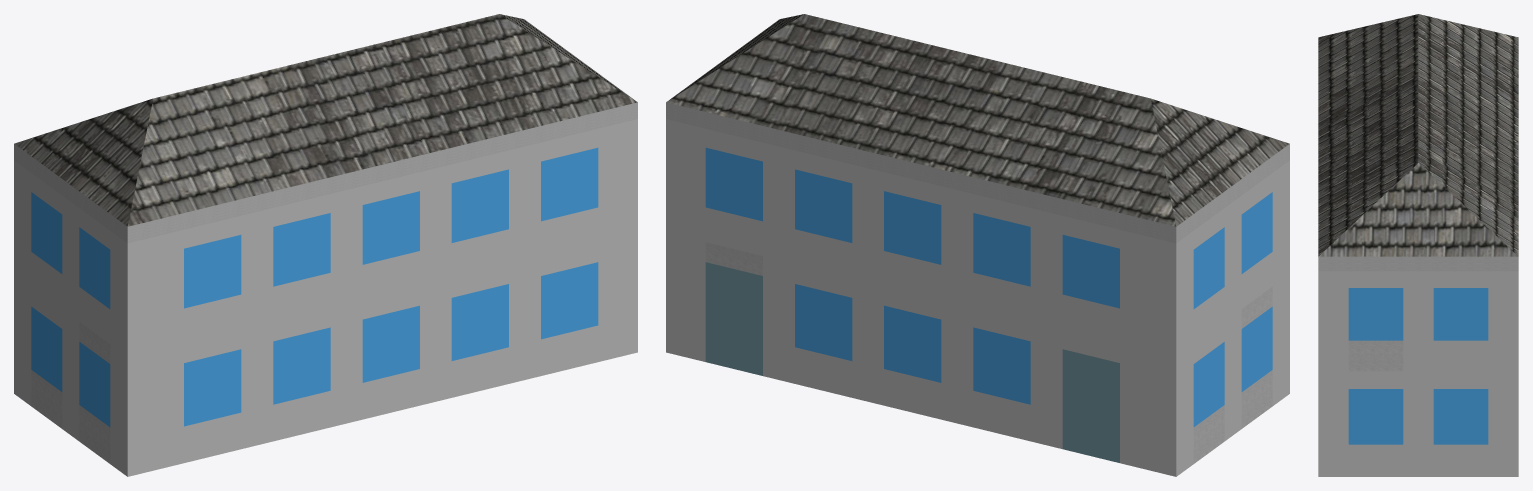
Rendered from Water_Softening_Room.glb.
3 renders of one model, left to right at view 1: azimuth 30°, elevation 25°; view 2: azimuth 150°, elevation 25°; view 3: azimuth 270°, elevation 25°, orthographic. The views are drawn at different scales.
Visible parts, largest first — view 1: Floor1, Roof; view 2: Floor1, Roof; view 3: Roof, Floor1.
Part boxes in pixels (left/top/right/bottom): Floor1: left=14, top=119, right=637, bottom=476; Roof: left=14, top=14, right=637, bottom=243; Floor1: left=666, top=119, right=1289, bottom=476; Roof: left=666, top=14, right=1289, bottom=243; Roof: left=1318, top=14, right=1518, bottom=271; Floor1: left=1318, top=271, right=1518, bottom=476.
Bounding box in the file's own units: 16.01 × 9.5 × 6.17.
4 materials, 4 textured.
